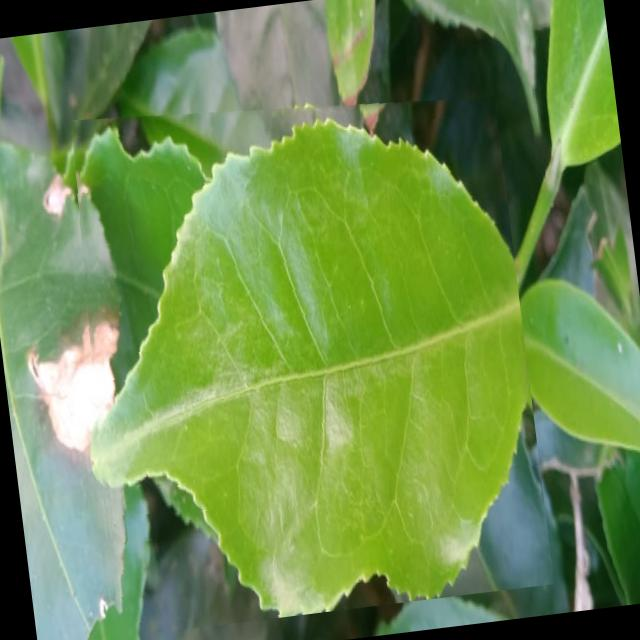Category B(2-4 days): (52, 68, 554, 636)
